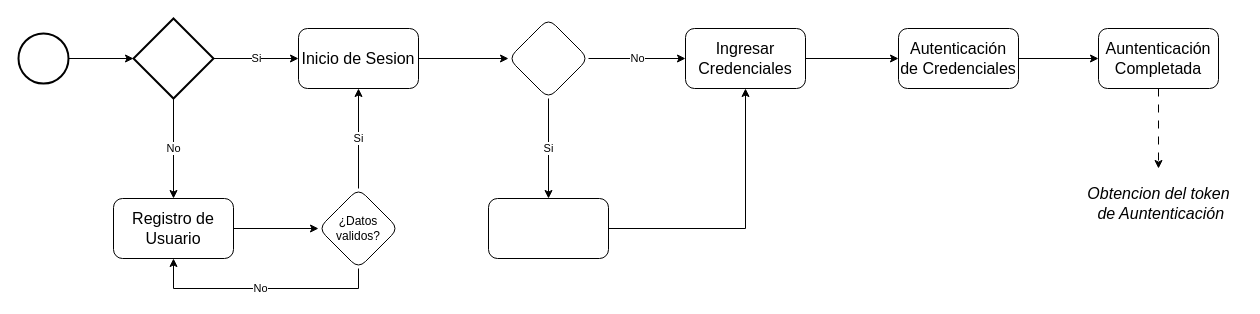
Some shapes in this 1260 by 314 pixel diagram are drawn without their labels. The box of each missing label's shape, as (x1, y1, x2, y2) in pixels:
Reestablecer Credenciales: (488, 198, 608, 258)
¿Recuperar Cuenta?: (508, 18, 588, 98)
¿Ya tiene Cuenta?: (132, 17, 214, 99)
